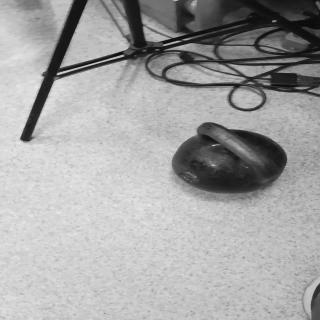girya: (173, 123, 289, 196)
